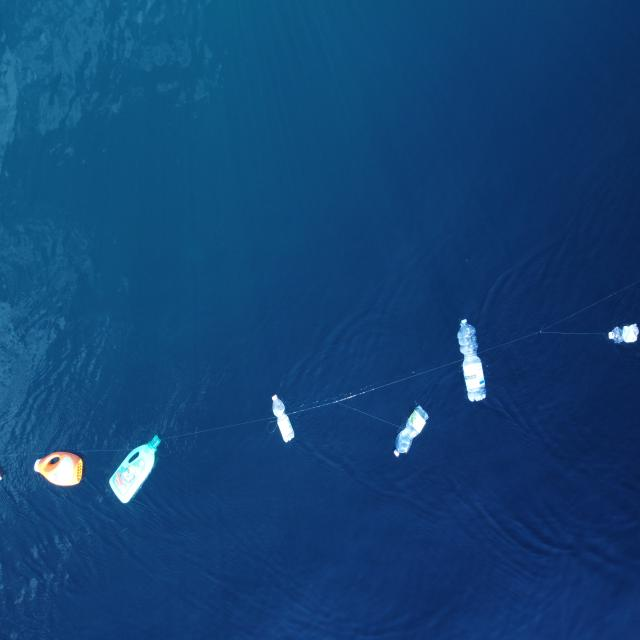bottles: (102, 435, 164, 503), (450, 312, 493, 408), (29, 448, 92, 503), (390, 394, 436, 462), (266, 384, 298, 458), (600, 318, 640, 350)
